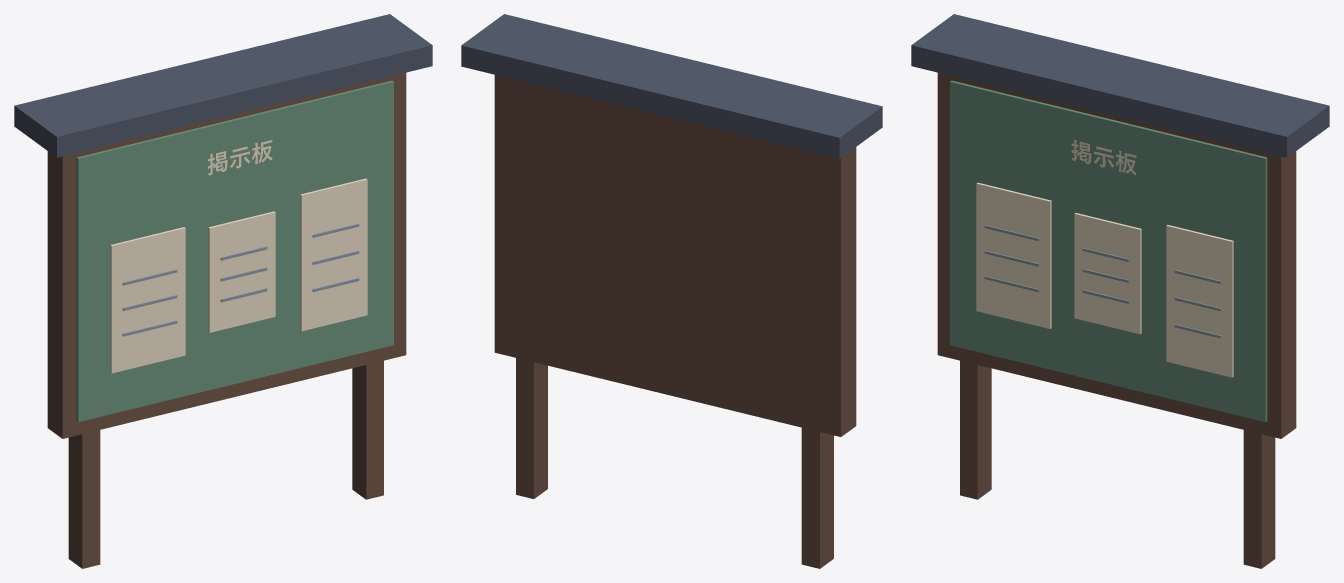
The model's file is SM_PublicNoticeboard.fbx.
3 renders of one model, left to right at view 1: azimuth 30°, elevation 25°; view 2: azimuth 150°, elevation 25°; view 3: azimuth 330°, elevation 25°, orthographic.
Parts seen in each view (by area): view 1: SM_PublicNoticeboard; view 2: SM_PublicNoticeboard; view 3: SM_PublicNoticeboard.
Boxes of the visible parts, x1,y1,x2,y2 form: SM_PublicNoticeboard: (14, 14, 432, 568); SM_PublicNoticeboard: (461, 14, 882, 568); SM_PublicNoticeboard: (911, 14, 1329, 568).
Size of the model in its own units: 1.88 by 0.37 by 2.15.
